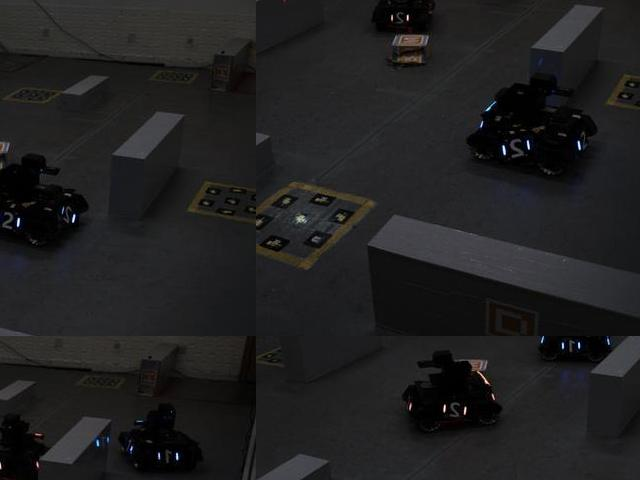armor: (499, 131, 536, 166), (0, 204, 26, 237), (439, 400, 474, 423), (154, 444, 186, 467), (571, 127, 592, 156), (559, 336, 588, 356), (58, 204, 80, 230), (387, 7, 413, 28), (0, 456, 8, 479)
